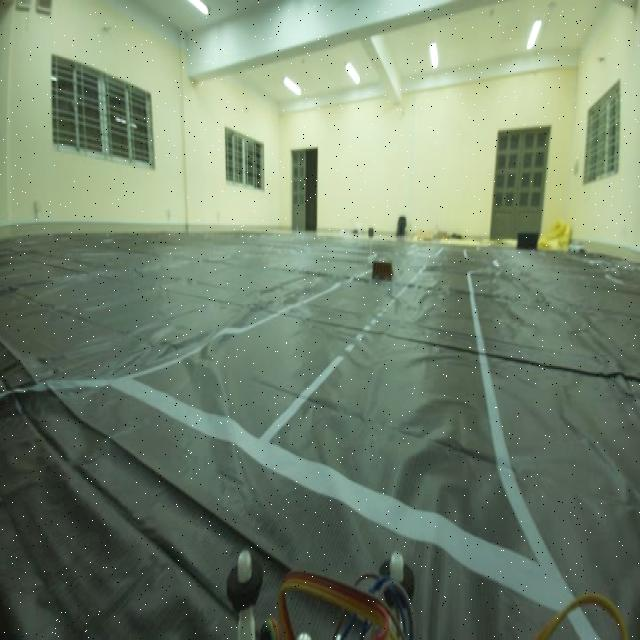roadblock: (370, 252, 396, 290)
